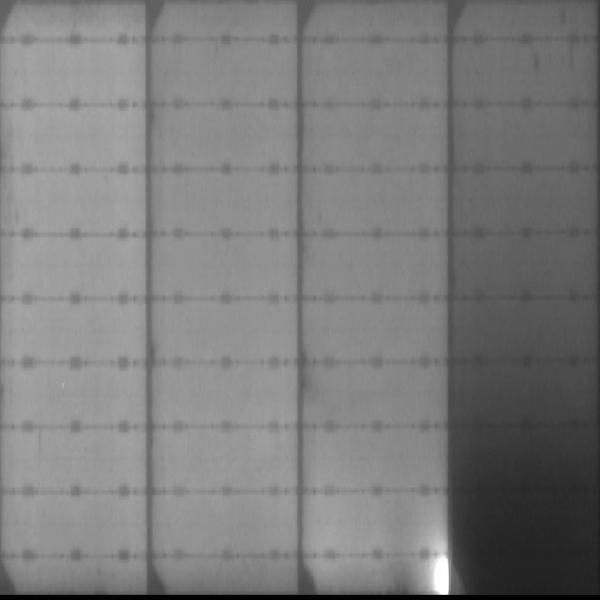hot_spot: (430, 553, 451, 595)
no_electricity: (466, 509, 596, 598)
